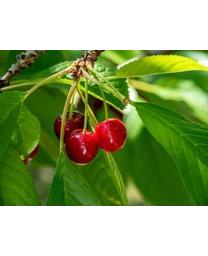cherry: (65, 130, 98, 166), (96, 120, 126, 153), (54, 112, 86, 139)
